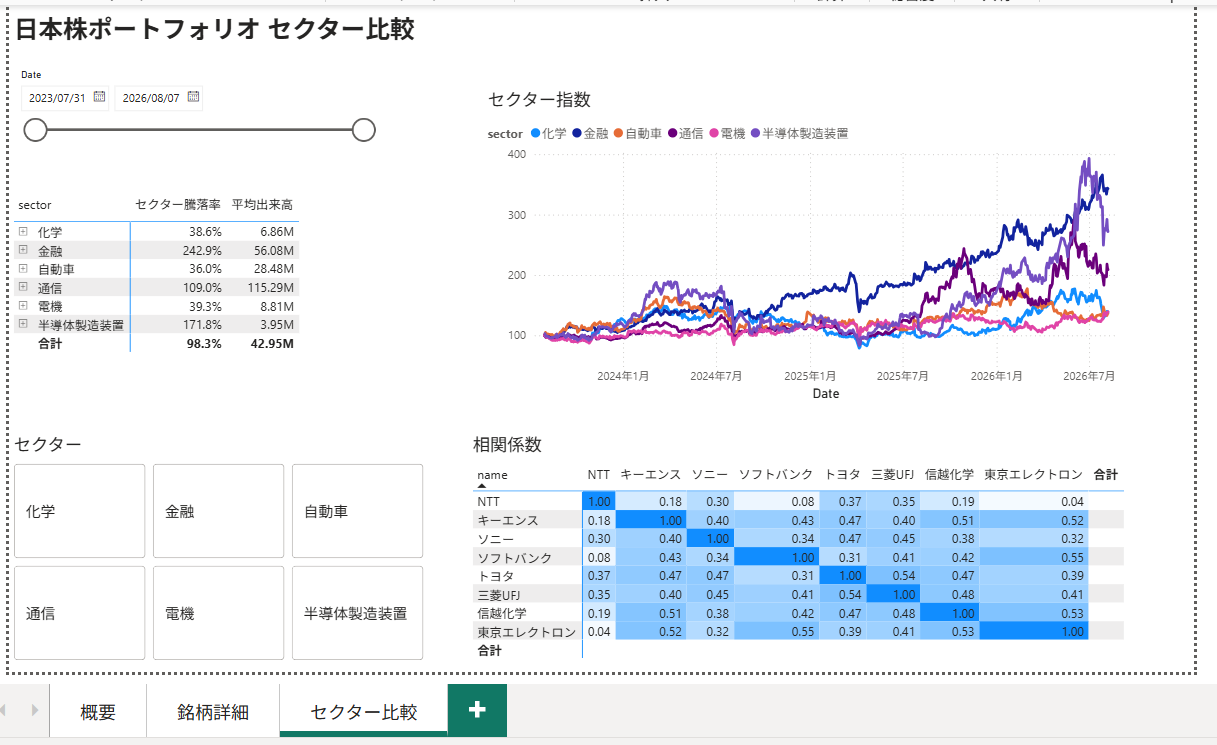

Layout of this report page (visuals, bound fields, positions):
{"tool":"powerbi","page":{"name":"セクター比較","canvas":[1280,720],"ordinal":2},"visuals":[{"type":"slicer","fields":{"Values":["dim_date.Date"]},"box":[0,63.6,403.9,135.2],"z":0},{"type":"pivotTable","fields":{"Rows":["symbols.sector","symbols.name"],"Values":["prices.セクター騰落率","prices.平均出来高"]},"box":[0,198.8,480,197],"z":1000},{"type":"lineChart","title":"セクター指数","fields":{"Category":["dim_date.Date"],"Y":["prices.セクター指数"],"Series":["symbols.sector"]},"box":[511.3,86.9,708.4,344.8],"z":2000},{"type":"advancedSlicerVisual","title":"セクター","fields":{"Values":["symbols.sector"]},"box":[0,459.4,452.2,253.4],"z":3000},{"type":"pivotTable","title":"相関係数","fields":{"Rows":["symbols.name"],"Columns":["symbols_相手.name2"],"Values":["prices.相関係数"]},"box":[495.2,459.4,784.5,260.6],"z":4000},{"type":"textbox","box":[0,0,480,48.4],"z":5000}]}

Visuals, with their boxes on the page's 1280x720 design canvas (x1, y1, x2, y2). These are canvas units, not pixel positions in the 1217x745 screenshot, which may show the page scaled, cropped or inside an application window:
slicer - dim_date.Date: box=[0, 64, 404, 199]
pivotTable - symbols.sector x symbols.name: box=[0, 199, 480, 396]
"セクター指数" lineChart: box=[511, 87, 1220, 432]
"セクター" advancedSlicerVisual: box=[0, 459, 452, 713]
"相関係数" pivotTable: box=[495, 459, 1280, 720]
textbox: box=[0, 0, 480, 48]
